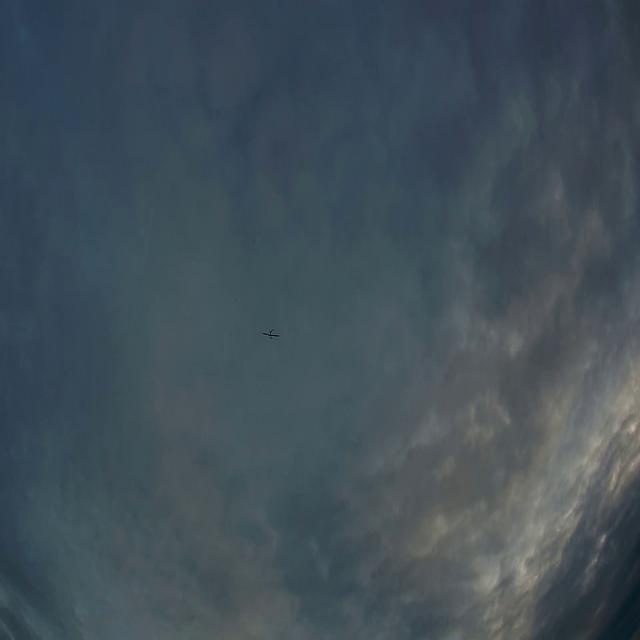iha: (260, 327, 282, 343)
